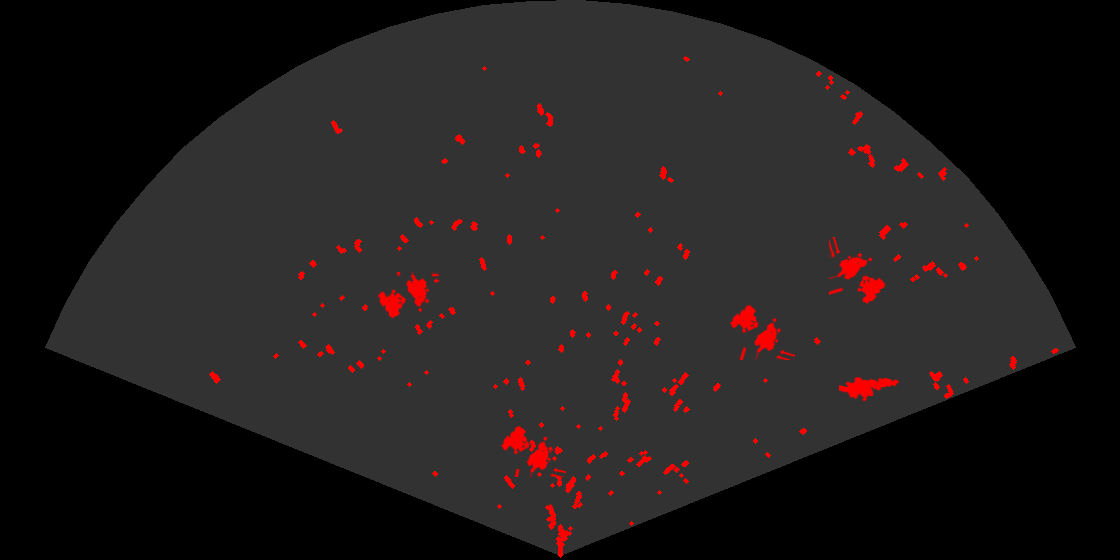cage: (829, 237, 887, 306), (728, 303, 795, 360), (499, 424, 566, 477), (376, 272, 439, 320)
frogman: (839, 375, 900, 403)
